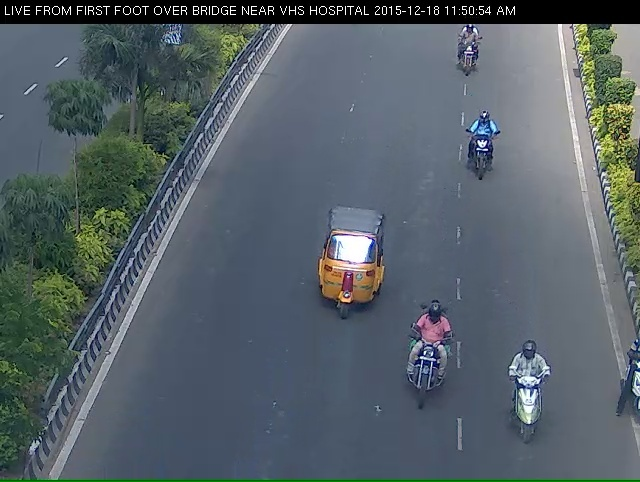Auto: (306, 218, 386, 343)
Person: (394, 330, 452, 445), (507, 367, 551, 468), (458, 119, 500, 193), (450, 29, 485, 84)
